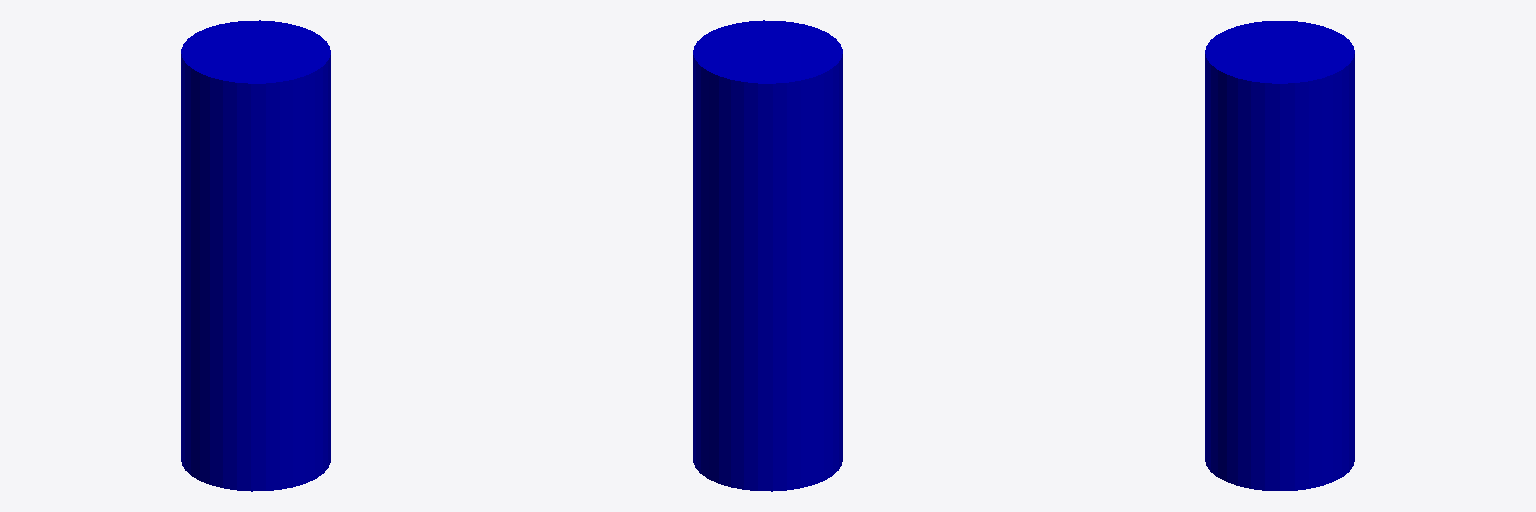
robot.urdf — iiwa14:
<?xml version="1.0" ?>
<!-- =================================================================================== -->
<!-- |    This document was autogenerated by xacro from iiwa14.urdf.xacro              | -->
<!-- |    EDITING THIS FILE BY HAND IS NOT RECOMMENDED                                 | -->
<!-- =================================================================================== -->
<robot name="iiwa14" xmlns:xacro="http://www.ros.org/wiki/xacro">
  <!-- Import Rviz colors -->
  <material name="Black">
    <color rgba="0.0 0.0 0.0 1.0"/>
  </material>
  <material name="Blue">
    <color rgba="0.0 0.0 0.8 1.0"/>
  </material>
  <material name="Green">
    <color rgba="0.0 0.8 0.0 1.0"/>
  </material>
  <material name="Grey">
    <color rgba="0.4 0.4 0.4 1.0"/>
  </material>
  <material name="Orange">
    <color rgba="1.0 0.423529411765 0.0392156862745 1.0"/>
  </material>
  <material name="Brown">
    <color rgba="0.870588235294 0.811764705882 0.764705882353 1.0"/>
  </material>
  <material name="Red">
    <color rgba="0.8 0.0 0.0 1.0"/>
  </material>
  <material name="White">
    <color rgba="1.0 1.0 1.0 1.0"/>
  </material>
  <!--Import the lbr iiwa macro -->
  <!-- Import all Gazebo-customization elements, including Gazebo colors -->
  <!-- Import Transmissions -->
  <!-- Include Utilities -->
  <!-- The following macros are adapted from the LWR 4 definitions of the RCPRG - https://github.com/RCPRG-ros-pkg/lwr_robot -->
  <!--Little helper macros to define the inertia matrix needed for links.-->
  <!--Cuboid-->
  <!--Cylinder: length is along the y-axis! -->
  <!-- some constants -->
  <!-- Fix to world just for testing -->
  <link name="world"/>
  <!--iiwa-->
  <!--joint between {parent} and link_0-->




  <joint name="world_iiwa_joint" type="fixed">
    <origin rpy="0 0 0" xyz="0 0 0"/>
    <parent link="world"/>
    <child link="iiwa_link_0"/>
  </joint>
  <link name="iiwa_link_0">
    <inertial>
      <origin rpy="0 0 0" xyz="-0.1 0 0.07"/>
      <mass value="5"/>
      <inertia ixx="0.05" ixy="0" ixz="0" iyy="0.06" iyz="0" izz="0.03"/>
    </inertial>
    <visual>
      <origin rpy="0 0 0" xyz="0 0 0"/>
      <geometry>
        <mesh filename="package://iiwa_description/meshes/iiwa14/visual/link_0.stl"/>
      </geometry>
      <material name="Grey"/>
    </visual>
    <collision>
      <origin rpy="0 0 0" xyz="0 0 0"/>
      <geometry>
        <mesh filename="package://iiwa_description/meshes/iiwa14/collision/link_0.stl"/>
      </geometry>
      <material name="Grey"/>
    </collision>
    <self_collision_checking>
      <origin rpy="0 0 0" xyz="0 0 0"/>
      <geometry>
        <capsule length="0.25" radius="0.15"/>
      </geometry>
    </self_collision_checking>
  </link>


  <!-- joint between link_0 and link_1 -->
  <joint name="iiwa_joint_1" type="revolute">
    <parent link="iiwa_link_0"/>
    <child link="iiwa_link_1"/>
    <origin rpy="0 0 0" xyz="0 0 0.1575"/>
    <axis xyz="0 0 1"/>
    <limit effort="300" lower="-2.96705972839" upper="2.96705972839" velocity="10"/>
    <safety_controller k_position="100" k_velocity="2" soft_lower_limit="-2.93215314335" soft_upper_limit="2.93215314335"/>
    <dynamics damping="0"/>
  </joint>
  <link name="iiwa_link_1">
    <inertial>
      <origin rpy="0 0 0" xyz="0 -0.03 0.12"/>
      <mass value="4"/>
      <inertia ixx="0.1" ixy="0" ixz="0" iyy="0.09" iyz="0" izz="0.02"/>
    </inertial>
    <visual>
      <origin rpy="0 0 0" xyz="0 0 0"/>
      <geometry>
        <mesh filename="package://iiwa_description/meshes/iiwa14/visual/link_1.stl"/>
      </geometry>
      <material name="Orange"/>
    </visual>
    <collision>
      <origin rpy="0 0 0" xyz="0 0 0"/>
      <geometry>
        <mesh filename="package://iiwa_description/meshes/iiwa14/collision/link_1.stl"/>
      </geometry>
      <material name="Orange"/>
    </collision>
  </link>


  <!-- joint between link_1 and link_2 -->
  <joint name="iiwa_joint_2" type="revolute">
    <parent link="iiwa_link_1"/>
    <child link="iiwa_link_2"/>
    <origin rpy="1.57079632679   0 3.14159265359" xyz="0 0 0.2025"/>
    <axis xyz="0 0 1"/>
    <limit effort="300" lower="-2.09439510239" upper="2.09439510239" velocity="10"/>
    <safety_controller k_position="100" k_velocity="2" soft_lower_limit="-2.05948851735" soft_upper_limit="2.05948851735"/>
    <dynamics damping="0"/>
  </joint>

  <link name="iiwa_link_2">
    <inertial>
      <origin rpy="0 0 0" xyz="0.0003 0.059 0.042"/>
      <mass value="4"/>
      <inertia ixx="0.05" ixy="0" ixz="0" iyy="0.018" iyz="0" izz="0.044"/>
    </inertial>
    <visual>
      <origin rpy="0 0 0" xyz="0 0 0"/>
      <geometry>
        <mesh filename="package://iiwa_description/meshes/iiwa14/visual/link_2.stl"/>
      </geometry>
      <material name="Orange"/>
    </visual>
    <collision>
      <origin rpy="0 0 0" xyz="0 0 0"/>
      <geometry>
        <mesh filename="package://iiwa_description/meshes/iiwa14/collision/link_2.stl"/>
      </geometry>
      <material name="Orange"/>
    </collision>
  </link>
  <!-- joint between link_2 and link_3 -->
  <joint name="iiwa_joint_3" type="revolute">
    <parent link="iiwa_link_2"/>
    <child link="iiwa_link_3"/>
    <origin rpy="1.57079632679 0 3.14159265359" xyz="0 0.2045 0"/>
    <axis xyz="0 0 1"/>
    <limit effort="300" lower="-2.96705972839" upper="2.96705972839" velocity="10"/>
    <safety_controller k_position="100" k_velocity="2" soft_lower_limit="-2.93215314335" soft_upper_limit="2.93215314335"/>
    <dynamics damping="0"/>
  </joint>
  <link name="iiwa_link_3">
    <inertial>
      <origin rpy="0 0 0" xyz="0 0.03 0.13"/>
      <mass value="3"/>
      <inertia ixx="0.025" ixy="0" ixz="0" iyy="0.0238" iyz="0" izz="0.0076"/>
    </inertial>
    <visual>
      <origin rpy="0 0 0" xyz="0 0 0"/>
      <geometry>
        <mesh filename="package://iiwa_description/meshes/iiwa14/visual/link_3.stl"/>
      </geometry>
      <material name="Orange"/>
    </visual>
    <collision>
      <origin rpy="0 0 0" xyz="0 0 0"/>
      <geometry>
        <mesh filename="package://iiwa_description/meshes/iiwa14/collision/link_3.stl"/>
      </geometry>
      <material name="Orange"/>
    </collision>
  </link>
  <!-- joint between link_3 and link_4 -->
  <joint name="iiwa_joint_4" type="revolute">
    <parent link="iiwa_link_3"/>
    <child link="iiwa_link_4"/>
    <origin rpy="1.57079632679 0 0" xyz="0 0 0.2155"/>
    <axis xyz="0 0 1"/>
    <limit effort="300" lower="-2.09439510239" upper="2.09439510239" velocity="10"/>
    <safety_controller k_position="100" k_velocity="2" soft_lower_limit="-2.05948851735" soft_upper_limit="2.05948851735"/>
    <dynamics damping="0"/>
  </joint>
  <link name="iiwa_link_4">
    <inertial>
      <origin rpy="0 0 0" xyz="0 0.067 0.034"/>
      <mass value="2.7"/>
      <inertia ixx="0.03" ixy="0" ixz="0" iyy="0.01" iyz="0" izz="0.029"/>
    </inertial>
    <visual>
      <origin rpy="0 0 0" xyz="0 0 0"/>
      <geometry>
        <mesh filename="package://iiwa_description/meshes/iiwa14/visual/link_4.stl"/>
      </geometry>
      <material name="Orange"/>
    </visual>
    <collision>
      <origin rpy="0 0 0" xyz="0 0 0"/>
      <geometry>
        <mesh filename="package://iiwa_description/meshes/iiwa14/collision/link_4.stl"/>
      </geometry>
      <material name="Orange"/>
    </collision>
  </link>
  <!-- joint between link_4 and link_5 -->
  <joint name="iiwa_joint_5" type="revolute">
    <parent link="iiwa_link_4"/>
    <child link="iiwa_link_5"/>
    <origin rpy="-1.57079632679 3.14159265359 0" xyz="0 0.1845 0"/>
    <axis xyz="0 0 1"/>
    <limit effort="300" lower="-2.96705972839" upper="2.96705972839" velocity="10"/>
    <safety_controller k_position="100" k_velocity="2" soft_lower_limit="-2.93215314335" soft_upper_limit="2.93215314335"/>
    <dynamics damping="0"/>
  </joint>
  <link name="iiwa_link_5">
    <inertial>
      <origin rpy="0 0 0" xyz="0.0001 0.021 0.076"/>
      <mass value="1.7"/>
      <inertia ixx="0.02" ixy="0" ixz="0" iyy="0.018" iyz="0" izz="0.005"/>
    </inertial>
    <visual>
      <origin rpy="0 0 0" xyz="0 0 0"/>
      <geometry>
        <mesh filename="package://iiwa_description/meshes/iiwa14/visual/link_5.stl"/>
      </geometry>
      <material name="Orange"/>
    </visual>
    <collision>
      <origin rpy="0 0 0" xyz="0 0 0"/>
      <geometry>
        <mesh filename="package://iiwa_description/meshes/iiwa14/collision/link_5.stl"/>
      </geometry>
      <material name="Orange"/>
    </collision>
  </link>
  <!-- joint between link_5 and link_6 -->
  <joint name="iiwa_joint_6" type="revolute">
    <parent link="iiwa_link_5"/>
    <child link="iiwa_link_6"/>
    <origin rpy="1.57079632679 0 0" xyz="0 0 0.2155"/>
    <axis xyz="0 0 1"/>
    <limit effort="300" lower="-2.09439510239" upper="2.09439510239" velocity="10"/>
    <safety_controller k_position="100" k_velocity="2" soft_lower_limit="-2.05948851735" soft_upper_limit="2.05948851735"/>
    <dynamics damping="0"/>
  </joint>
  <link name="iiwa_link_6">
    <inertial>
      <origin rpy="0 0 0" xyz="0 0.0006 0.0004"/>
      <mass value="1.8"/>
      <inertia ixx="0.005" ixy="0" ixz="0" iyy="0.0036" iyz="0" izz="0.0047"/>
    </inertial>
    <visual>
      <origin rpy="0 0 0" xyz="0 0 0"/>
      <geometry>
        <mesh filename="package://iiwa_description/meshes/iiwa14/visual/link_6.stl"/>
      </geometry>
      <material name="Orange"/>
    </visual>
    <collision>
      <origin rpy="0 0 0" xyz="0 0 0"/>
      <geometry>
        <mesh filename="package://iiwa_description/meshes/iiwa14/collision/link_6.stl"/>
      </geometry>
      <material name="Orange"/>
    </collision>
  </link>
  <!-- joint between link_6 and link_7 -->
  <joint name="iiwa_joint_7" type="revolute">
    <parent link="iiwa_link_6"/>
    <child link="iiwa_link_7"/>
    <origin rpy="-1.57079632679 3.14159265359 0" xyz="0 0.081 0"/>
    <axis xyz="0 0 1"/>
    <limit effort="300" lower="-3.05432619099" upper="3.05432619099" velocity="10"/>
    <safety_controller k_position="100" k_velocity="2" soft_lower_limit="-3.01941960595" soft_upper_limit="3.01941960595"/>
    <dynamics damping="0"/>
  </joint>
  <link name="iiwa_link_7">
    <inertial>
      <origin rpy="0 0 0" xyz="0 0 0.02"/>
      <mass value="0.3"/>
      <inertia ixx="0.001" ixy="0" ixz="0" iyy="0.001" iyz="0" izz="0.001"/>
    </inertial>
    <visual>
      <origin rpy="0 0 0" xyz="0 0 0"/>
      <geometry>
        <mesh filename="package://iiwa_description/meshes/iiwa14/visual/link_7.stl"/>
      </geometry>
      <material name="Grey"/>
    </visual>
    <collision>
      <origin rpy="0 0 0" xyz="0 0 0"/>
      <geometry>
        <mesh filename="package://iiwa_description/meshes/iiwa14/collision/link_7.stl"/>
      </geometry>
      <material name="Grey"/>
    </collision>
  </link>
  <!-- 添加连接圆柱体的关节 -->
  <joint name="cylinder_joint" type="fixed">
    <parent link="iiwa_link_7"/>
    <child link="cylinder_link"/>
    <origin xyz="0 0 0.1" rpy="0 0 0"/> <!-- 根据需要调整位置 -->
  </joint>

  <link name="cylinder_link">
    <inertial>
      <origin xyz="0 0 0" rpy="0 0 0"/>
      <mass value="0.50"/>
      <inertia ixx=".1" ixy="0.0" ixz="0.0"
               iyy=".1" iyz="0.0"
               izz=".1"/>
    </inertial>
    <visual>
      <origin xyz="0 0 0" rpy="0 0 0"/>
      <geometry>
        <cylinder length="0.2" radius="0.05"/>
      </geometry>
      <material name="Blue"/>
    </visual>
    <collision>
      <origin xyz="0 0 0" rpy="0 0 0"/>
      <geometry>
        <cylinder length="0.2" radius="0.05"/>
      </geometry>
    </collision>
  </link>

  <joint name="cylinder_joint1" type="fixed">
    <parent link="cylinder_link"/>
    <child link="cylinder_link1"/>
    <origin xyz="0 0 0.1" rpy="0 0 0"/> <!-- 根据需要调整位置 -->

  </joint>

  <link name="cylinder_link1">
    <inertial>
      <origin xyz="0 0 0" rpy="0 0 0"/>
      <mass value="1"/>
      <inertia ixx="0.1" ixy="0.0" ixz="0.0"
               iyy="0.1" iyz="0.0"
               izz=".1"/>
    </inertial>
    <visual>
      <origin xyz="0 0 0" rpy="0 0 0"/>
      <geometry>
        <cylinder length="0.2" radius="0.05"/>
      </geometry>
      <material name="Blue"/>
    </visual>
    <collision>
      <origin xyz="0 0 0" rpy="0 0 0"/>
      <geometry>
        <cylinder length="0.2" radius="0.05"/>
      </geometry>
    </collision>
  </link>




  <!--Extensions -->
  <!-- Load Gazebo lib and set the robot namespace -->
  <gazebo>
    <plugin filename="libgazebo_ros_control.so" name="gazebo_ros_control">
      <robotNamespace>/iiwa</robotNamespace>
    </plugin>
  </gazebo>
  <!-- Link0 -->
  <gazebo reference="iiwa_link_0">
    <material>Gazebo/Grey</material>
    <mu1>0.2</mu1>
    <mu2>0.2</mu2>
  </gazebo>
  <!-- Link1 -->
  <gazebo reference="iiwa_link_1">
    <material>Gazebo/Orange</material>
    <mu1>0.2</mu1>
    <mu2>0.2</mu2>
  </gazebo>
  <!-- Link2 -->
  <gazebo reference="iiwa_link_2">
    <material>Gazebo/Orange</material>
    <mu1>0.2</mu1>
    <mu2>0.2</mu2>
  </gazebo>
  <!-- Link3 -->
  <gazebo reference="iiwa_link_3">
    <material>Gazebo/Orange</material>
    <mu1>0.2</mu1>
    <mu2>0.2</mu2>
  </gazebo>
  <!-- Link4 -->
  <gazebo reference="iiwa_link_4">
    <material>Gazebo/Orange</material>
    <mu1>0.2</mu1>
    <mu2>0.2</mu2>
  </gazebo>
  <!-- Link5 -->
  <gazebo reference="iiwa_link_5">
    <material>Gazebo/Orange</material>
    <mu1>0.2</mu1>
    <mu2>0.2</mu2>
  </gazebo>
  <!-- Link6 -->
  <gazebo reference="iiwa_link_6">
    <material>Gazebo/Orange</material>
    <mu1>0.2</mu1>
    <mu2>0.2</mu2>
  </gazebo>
  <!-- Link7 -->
  <gazebo reference="iiwa_link_7">
    <material>Gazebo/Grey</material>
    <mu1>0.2</mu1>
    <mu2>0.2</mu2>
  </gazebo>
  <transmission name="iiwa_tran_1">
    <robotNamespace>/iiwa</robotNamespace>
    <type>transmission_interface/SimpleTransmission</type>
    <joint name="iiwa_joint_1">
      <hardwareInterface>PositionJointInterface</hardwareInterface>
    </joint>
    <actuator name="iiwa_motor_1">
      <hardwareInterface>PositionJointInterface</hardwareInterface>
      <mechanicalReduction>1</mechanicalReduction>
    </actuator>
  </transmission>
  <transmission name="iiwa_tran_2">
    <robotNamespace>/iiwa</robotNamespace>
    <type>transmission_interface/SimpleTransmission</type>
    <joint name="iiwa_joint_2">
      <hardwareInterface>PositionJointInterface</hardwareInterface>
    </joint>
    <actuator name="iiwa_motor_2">
      <hardwareInterface>PositionJointInterface</hardwareInterface>
      <mechanicalReduction>1</mechanicalReduction>
    </actuator>
  </transmission>
  <transmission name="iiwa_tran_3">
    <robotNamespace>/iiwa</robotNamespace>
    <type>transmission_interface/SimpleTransmission</type>
    <joint name="iiwa_joint_3">
      <hardwareInterface>PositionJointInterface</hardwareInterface>
    </joint>
    <actuator name="iiwa_motor_3">
      <hardwareInterface>PositionJointInterface</hardwareInterface>
      <mechanicalReduction>1</mechanicalReduction>
    </actuator>
  </transmission>
  <transmission name="iiwa_tran_4">
    <robotNamespace>/iiwa</robotNamespace>
    <type>transmission_interface/SimpleTransmission</type>
    <joint name="iiwa_joint_4">
      <hardwareInterface>PositionJointInterface</hardwareInterface>
    </joint>
    <actuator name="iiwa_motor_4">
      <hardwareInterface>PositionJointInterface</hardwareInterface>
      <mechanicalReduction>1</mechanicalReduction>
    </actuator>
  </transmission>
  <transmission name="iiwa_tran_5">
    <robotNamespace>/iiwa</robotNamespace>
    <type>transmission_interface/SimpleTransmission</type>
    <joint name="iiwa_joint_5">
      <hardwareInterface>PositionJointInterface</hardwareInterface>
    </joint>
    <actuator name="iiwa_motor_5">
      <hardwareInterface>PositionJointInterface</hardwareInterface>
      <mechanicalReduction>1</mechanicalReduction>
    </actuator>
  </transmission>
  <transmission name="iiwa_tran_6">
    <robotNamespace>/iiwa</robotNamespace>
    <type>transmission_interface/SimpleTransmission</type>
    <joint name="iiwa_joint_6">
      <hardwareInterface>PositionJointInterface</hardwareInterface>
    </joint>
    <actuator name="iiwa_motor_6">
      <hardwareInterface>PositionJointInterface</hardwareInterface>
      <mechanicalReduction>1</mechanicalReduction>
    </actuator>
  </transmission>
  <transmission name="iiwa_tran_7">
    <robotNamespace>/iiwa</robotNamespace>
    <type>transmission_interface/SimpleTransmission</type>
    <joint name="iiwa_joint_7">
      <hardwareInterface>PositionJointInterface</hardwareInterface>
    </joint>
    <actuator name="iiwa_motor_7">
      <hardwareInterface>PositionJointInterface</hardwareInterface>
      <mechanicalReduction>1</mechanicalReduction>
    </actuator>
  </transmission>
</robot>

--- Facts derived from the render (not from the file) ---
3 views of the same robot in one strip: view 1: azimuth 30°, elevation 25°; view 2: azimuth 150°, elevation 25°; view 3: azimuth 270°, elevation 25° (orthographic).
Robot: iiwa14 — 11 links, 10 joints (7 revolute, 3 fixed); root link world; default pose: all joints at 0.
Visible links, largest first — view 1: cylinder_link1, cylinder_link; view 2: cylinder_link, cylinder_link1; view 3: cylinder_link1, cylinder_link.
Link boxes in pixels (x1,y1,x2,y2): cylinder_link1: (181,20,330,355); cylinder_link: (181,190,330,491); cylinder_link: (693,190,842,491); cylinder_link1: (693,20,842,355); cylinder_link1: (1205,21,1354,355); cylinder_link: (1205,190,1354,490).
Size in the robot's own frame: 0.1 by 0.1 by 0.3 metres.
0 mesh visuals loaded from 8 distinct referenced files (none loaded); not drawn: 8 (reference not matched to a file when rendering).